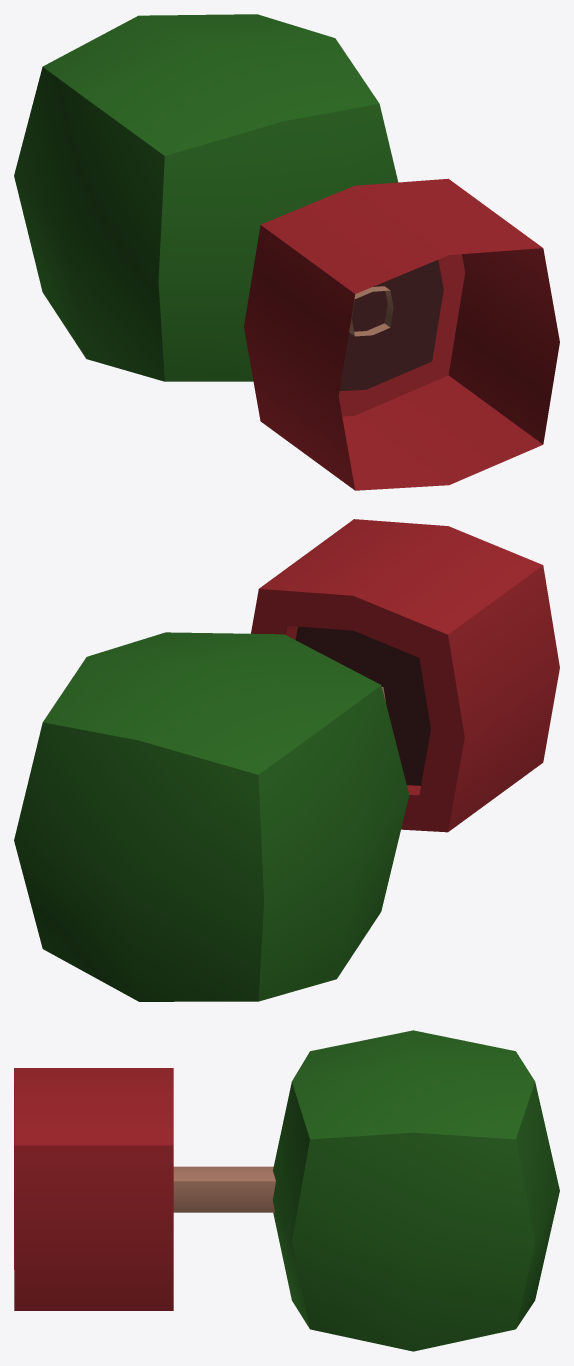
The model's file is Potted Plant 04.FBX.
The picture shows the model from 3 angles, top to bottom: view 1: azimuth 30°, elevation 25°; view 2: azimuth 150°, elevation 25°; view 3: azimuth 270°, elevation 25°; orthographic projection. The views are drawn at different scales.
Parts seen in each view (by area): view 1: Potted Plant 04; view 2: Potted Plant 04; view 3: Potted Plant 04.
Boxes of the visible parts, x1,y1,x2,y2 form: Potted Plant 04: [14, 14, 559, 490]; Potted Plant 04: [14, 519, 559, 1001]; Potted Plant 04: [14, 1030, 559, 1351].
Bounding box in the file's own units: 97.09 × 96.37 × 186.
